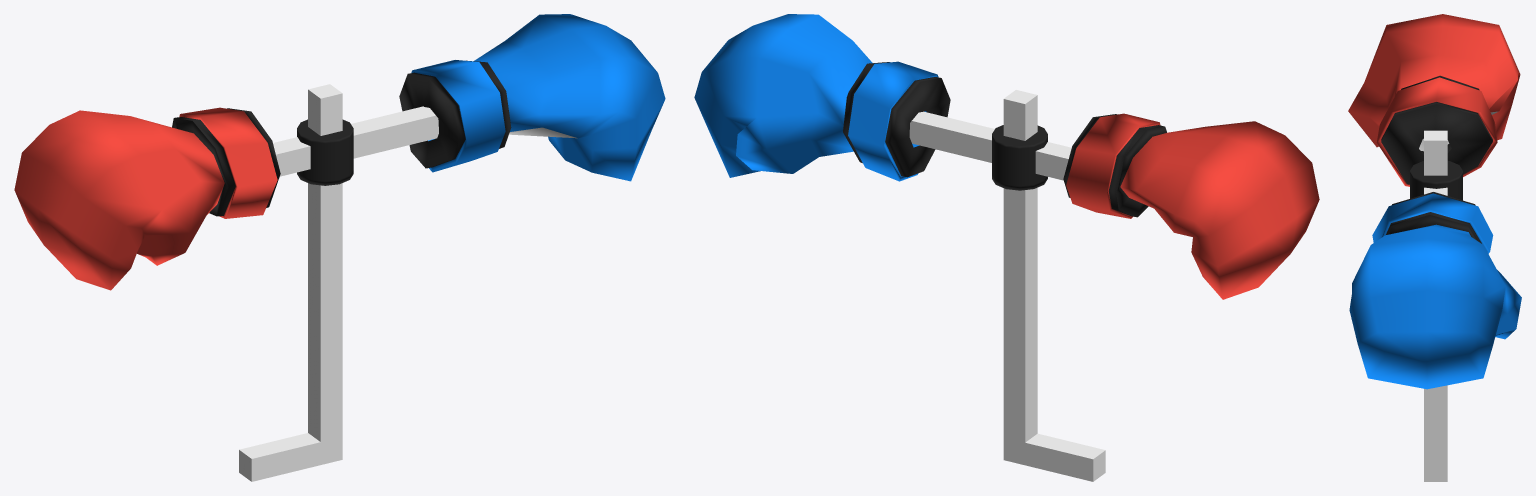
Rendered from Boxing_Punch_Obstacles.fbx.
3 views of the same model, side by side, from view 1: azimuth 30°, elevation 25°; view 2: azimuth 150°, elevation 25°; view 3: azimuth 270°, elevation 25° (orthographic). The views are drawn at different scales.
Visible parts, largest first — view 1: Punching_Glove_Red, Punching_Glove_Blue, Extended_Hook, Rotation_Support, Ground_Hook; view 2: Punching_Glove_Blue, Punching_Glove_Red, Extended_Hook, Rotation_Support, Ground_Hook; view 3: Punching_Glove_Blue, Punching_Glove_Red, Extended_Hook, Rotation_Support.
Part boxes in pixels (left/top/right/bottom): Punching_Glove_Red: left=14, top=107, right=280, bottom=290; Punching_Glove_Blue: left=399, top=14, right=665, bottom=181; Extended_Hook: left=308, top=84, right=342, bottom=464; Rotation_Support: left=273, top=106, right=438, bottom=185; Ground_Hook: left=239, top=433, right=320, bottom=481; Punching_Glove_Blue: left=694, top=14, right=950, bottom=181; Punching_Glove_Red: left=1063, top=113, right=1319, bottom=299; Extended_Hook: left=1003, top=90, right=1037, bottom=465; Rotation_Support: left=909, top=111, right=1071, bottom=190; Ground_Hook: left=1025, top=433, right=1105, bottom=481; Punching_Glove_Blue: left=1349, top=192, right=1521, bottom=389; Punching_Glove_Red: left=1348, top=14, right=1520, bottom=186; Extended_Hook: left=1424, top=130, right=1447, bottom=481; Rotation_Support: left=1410, top=161, right=1462, bottom=200.
Bounding box in the file's own units: 99.74 × 60.76 × 26.99.
